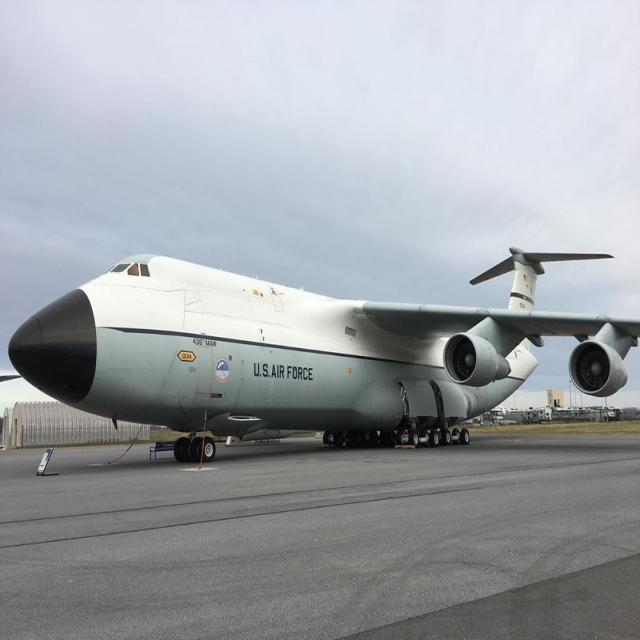MIL_Plane: (29, 246, 618, 463)
